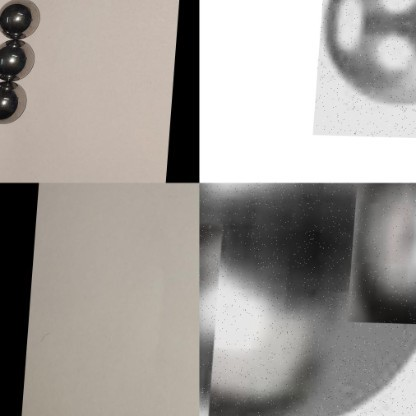ironball: (199, 182, 415, 415), (316, 0, 415, 137), (350, 182, 415, 323), (0, 0, 46, 41), (0, 39, 38, 82), (0, 80, 26, 130)
